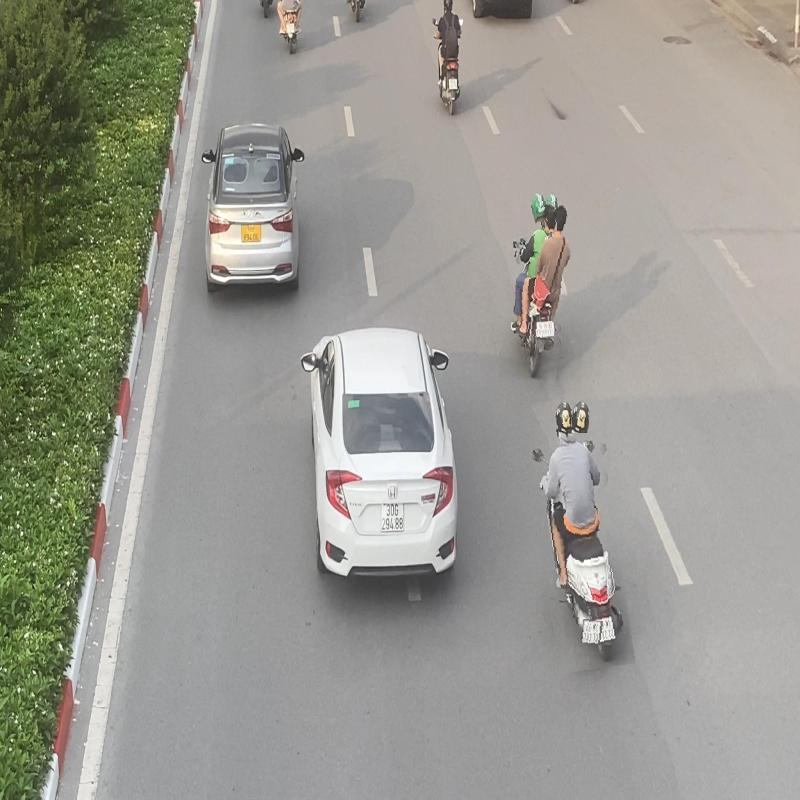helmet: (572, 400, 590, 433), (529, 191, 548, 222)
licenseplate: (582, 619, 602, 645), (542, 321, 556, 337)
motorcyclist: (530, 396, 626, 672), (504, 188, 574, 384)
nohelmet: (542, 202, 557, 232)
